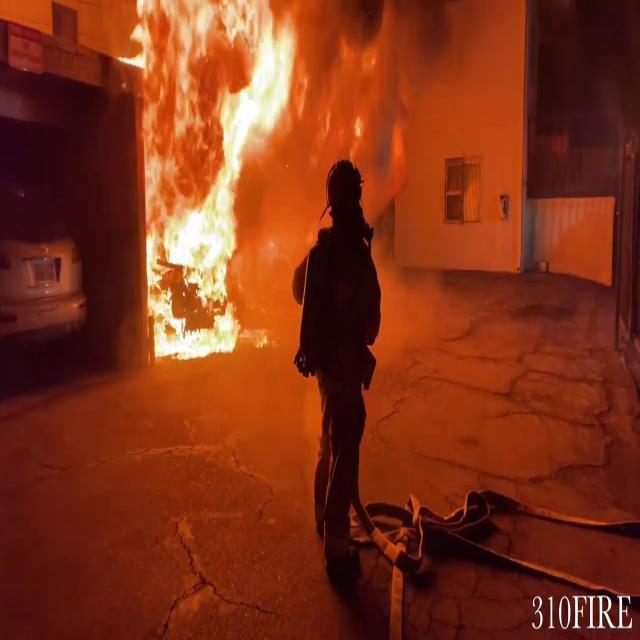Fire: (129, 1, 299, 361)
